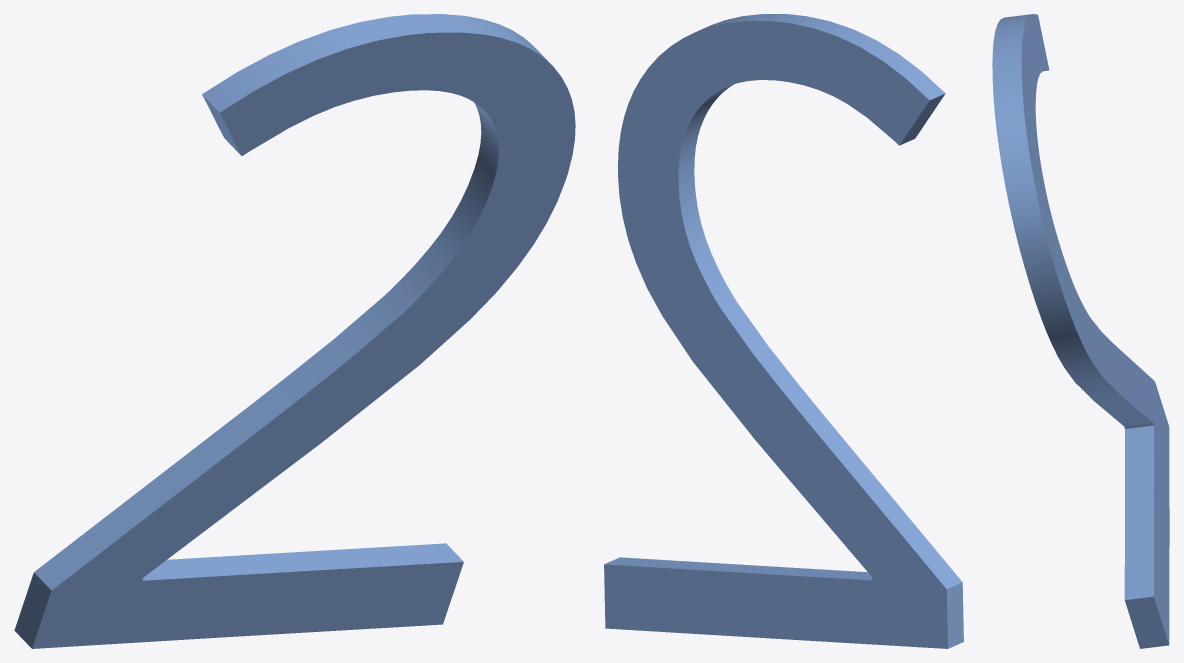
Rendered from New_Number_2.gltf.
3 views of the same model, side by side, from view 1: azimuth 30°, elevation 25°; view 2: azimuth 150°, elevation 25°; view 3: azimuth 270°, elevation 25° (orthographic). The views are drawn at different scales.
Parts seen in each view (by area): view 1: Part 101; view 2: Part 101; view 3: Part 101.
Boxes of the visible parts, x1=… form: Part 101: x1=14, y1=14, x2=575, y2=648; Part 101: x1=604, y1=14, x2=963, y2=648; Part 101: x1=992, y1=14, x2=1169, y2=648.
Size of the model in its own units: 0.00372 by 0.00527 by 0.00154.
